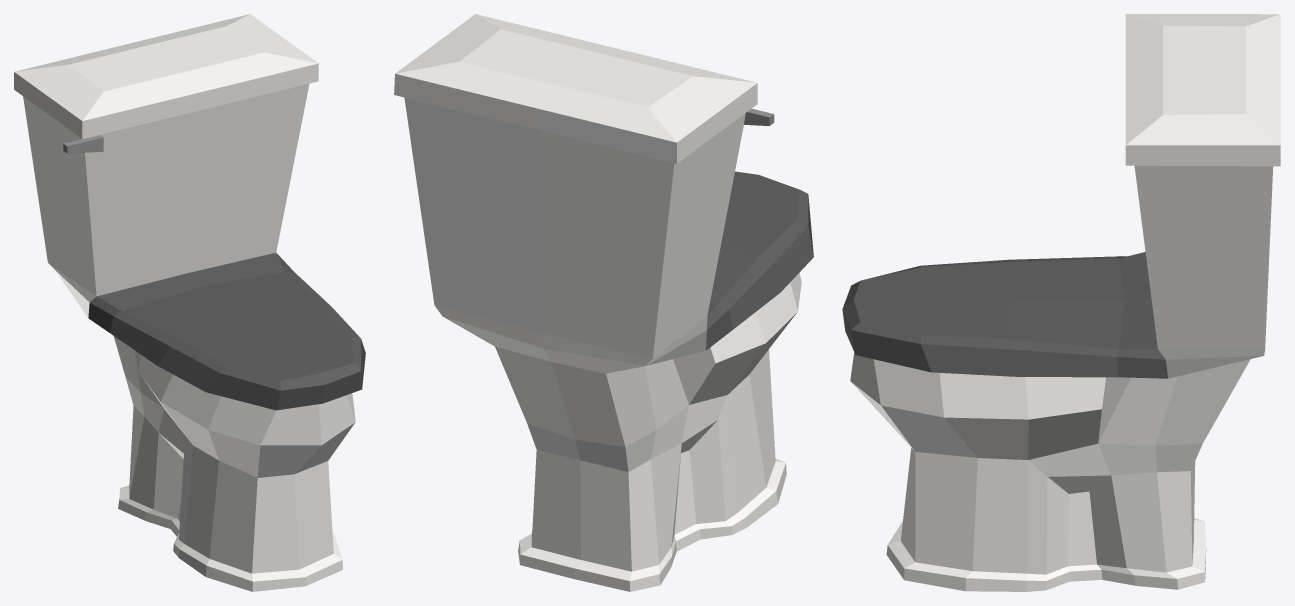
Rendered from Toilet_1.fbx.
3 views of the same model, side by side, from view 1: azimuth 30°, elevation 25°; view 2: azimuth 150°, elevation 25°; view 3: azimuth 270°, elevation 25° (orthographic). The views are drawn at different scales.
Visible parts, largest first — view 1: Toilet_1; view 2: Toilet_1; view 3: Toilet_1.
Part boxes in pixels (bbox=[...]): Toilet_1: bbox=[14, 14, 365, 591]; Toilet_1: bbox=[394, 14, 813, 591]; Toilet_1: bbox=[842, 14, 1280, 591].
Bounding box in the file's own units: 77.1 × 102 × 126.
